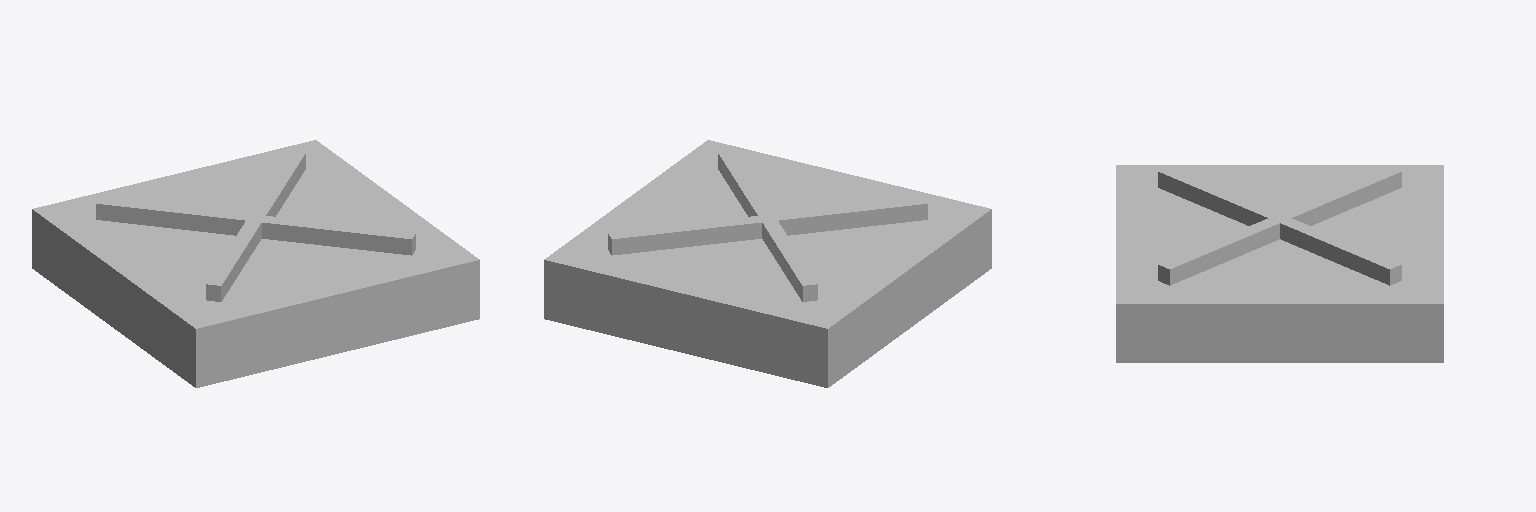
Rendered from s_switch.obj.
3 views of the same model, side by side, from view 1: azimuth 30°, elevation 25°; view 2: azimuth 150°, elevation 25°; view 3: azimuth 270°, elevation 25° (orthographic).
Visible parts, largest first — view 1: strong_switch_Cube; view 2: strong_switch_Cube; view 3: strong_switch_Cube.
Part boxes in pixels (x1,y1,x2,y2): strong_switch_Cube: (32,140,479,387); strong_switch_Cube: (544,140,991,387); strong_switch_Cube: (1116,165,1443,362).
Bounding box in the file's own units: 2 × 0.509 × 2.